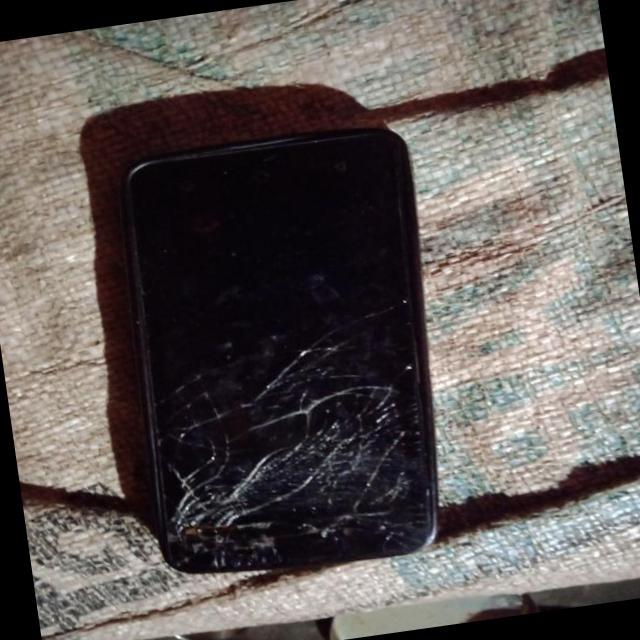screen crack: (122, 328, 458, 597)
